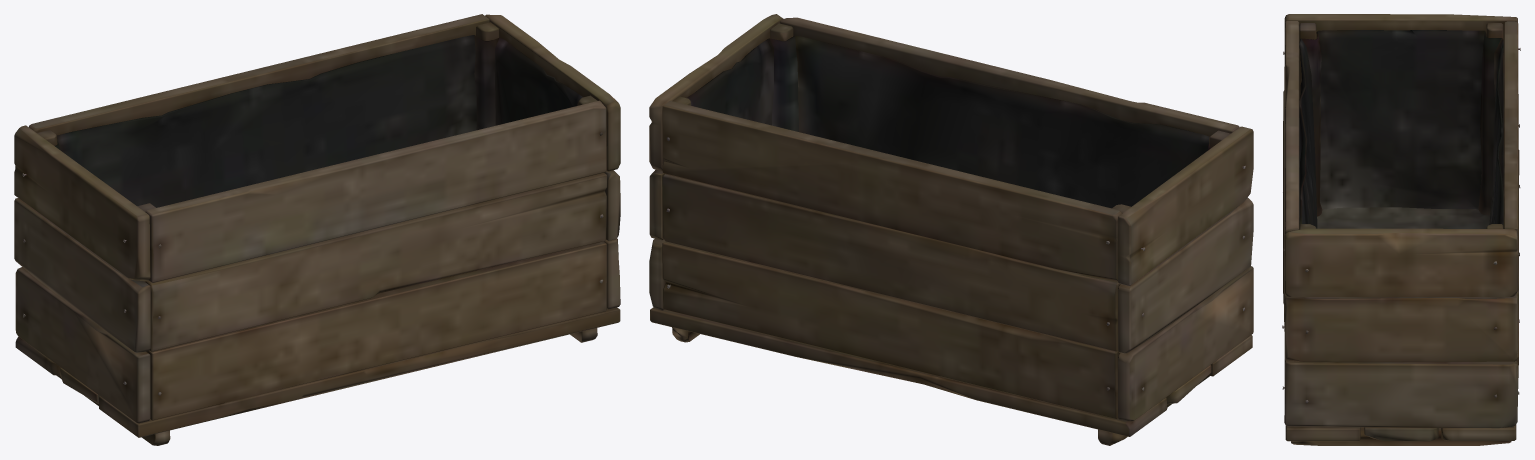
The model's file is planter_box_01_lod1.glb.
3 renders of one model, left to right at view 1: azimuth 30°, elevation 25°; view 2: azimuth 150°, elevation 25°; view 3: azimuth 270°, elevation 25°, orthographic. The views are drawn at different scales.
Visible parts, largest first — view 1: planter_box_01; view 2: planter_box_01; view 3: planter_box_01.
Boxes of the visible parts, x1,y1,x2,y2 form: planter_box_01: (14, 14, 620, 445); planter_box_01: (649, 14, 1253, 445); planter_box_01: (1282, 14, 1520, 445).
Bounding box in the file's own units: 0.9126 × 0.4249 × 0.4137.
1 material, 1 textured.
